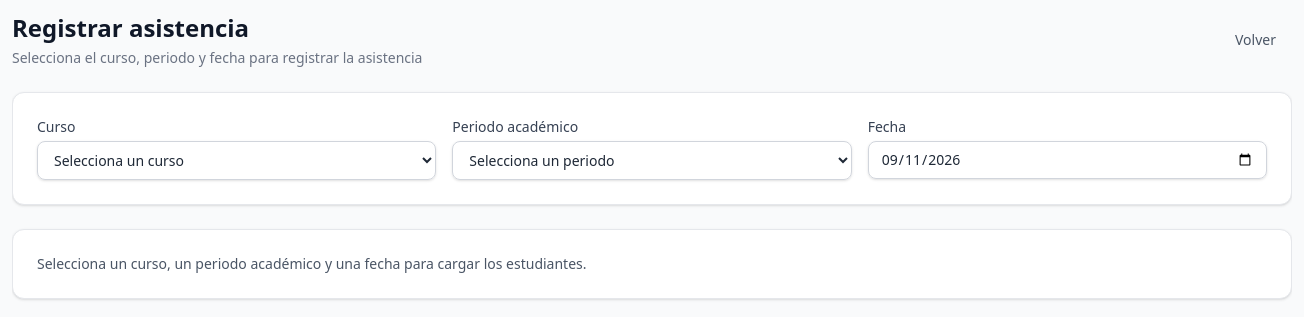
Test case: AttendanceRegisterPage › shows a no-students state when none are enrolled
This screenshot has width=1304, height=317.
Select "Décimo A" in the dropdown labelled "Curso" at (237,160), box [37,141,436,180]
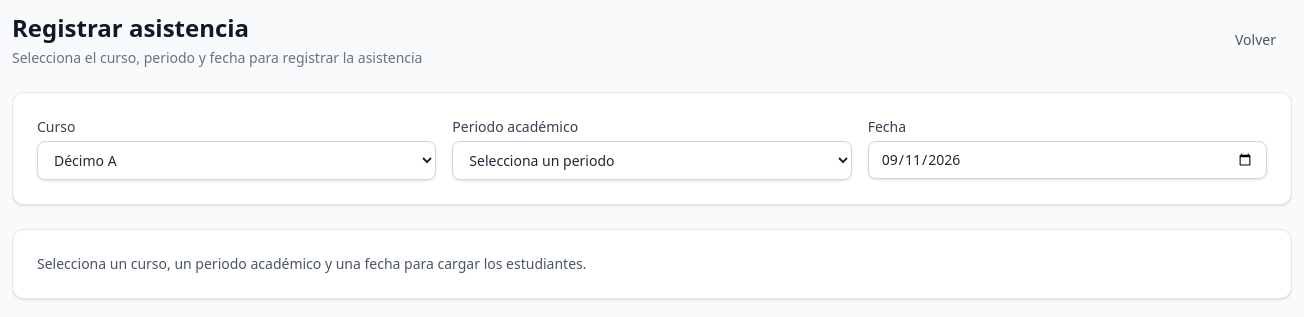
Select "2026-P1" in the dropdown labelled "Periodo académico" at (652,160), box [452,141,852,180]
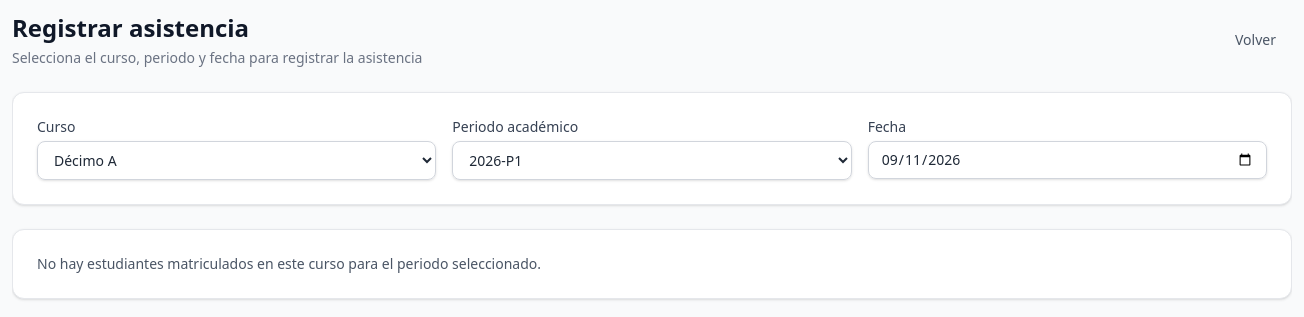
Expected: the text "No hay estudiantes matriculados" is shown, [37,254,541,273]
